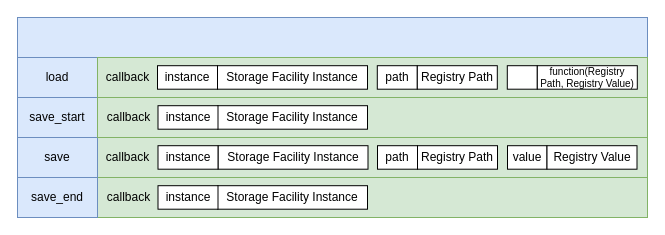
Some shapes in this 665 by 235 pixel diagram are drawn without their labels. The centre of each missing label's shape, as x and y in pixels:
cb: (x=521, y=77)
Storage Facility: (x=332, y=37)
